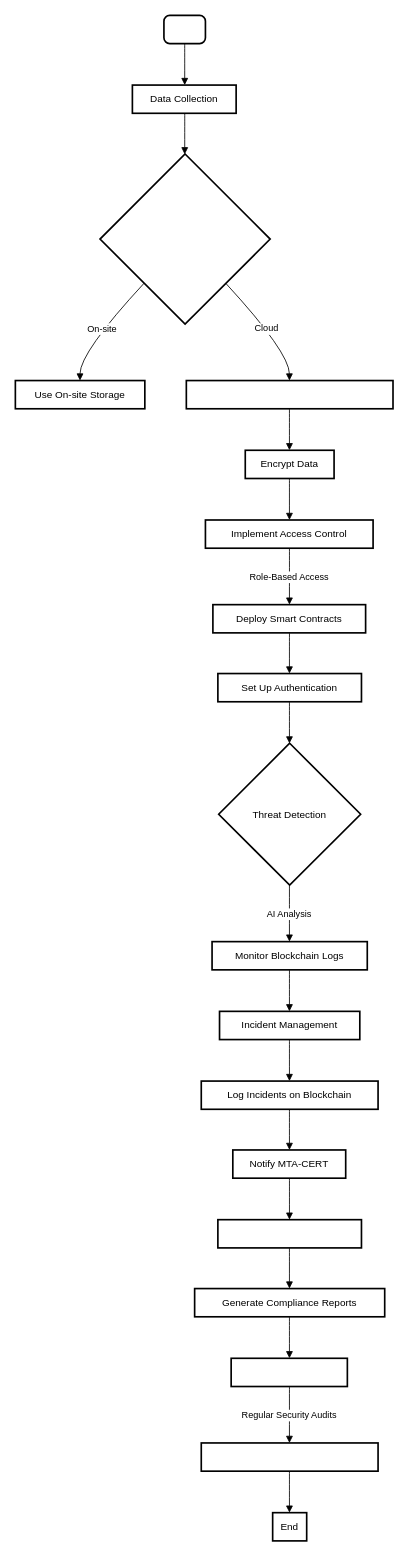
This 408x1555 diagram has some shape labels left out. Here are the shapes that lost their labels. From the top down, the centre of each, then its label:
the point at 184,29: Start
the point at 185,239: Data Storage Decision
the point at 289,394: Use Decentralized Cloud Storage
the point at 289,1233: Compliance Reporting
the point at 289,1372: Audit and Update
the point at 289,1457: Update via Smart Contracts
